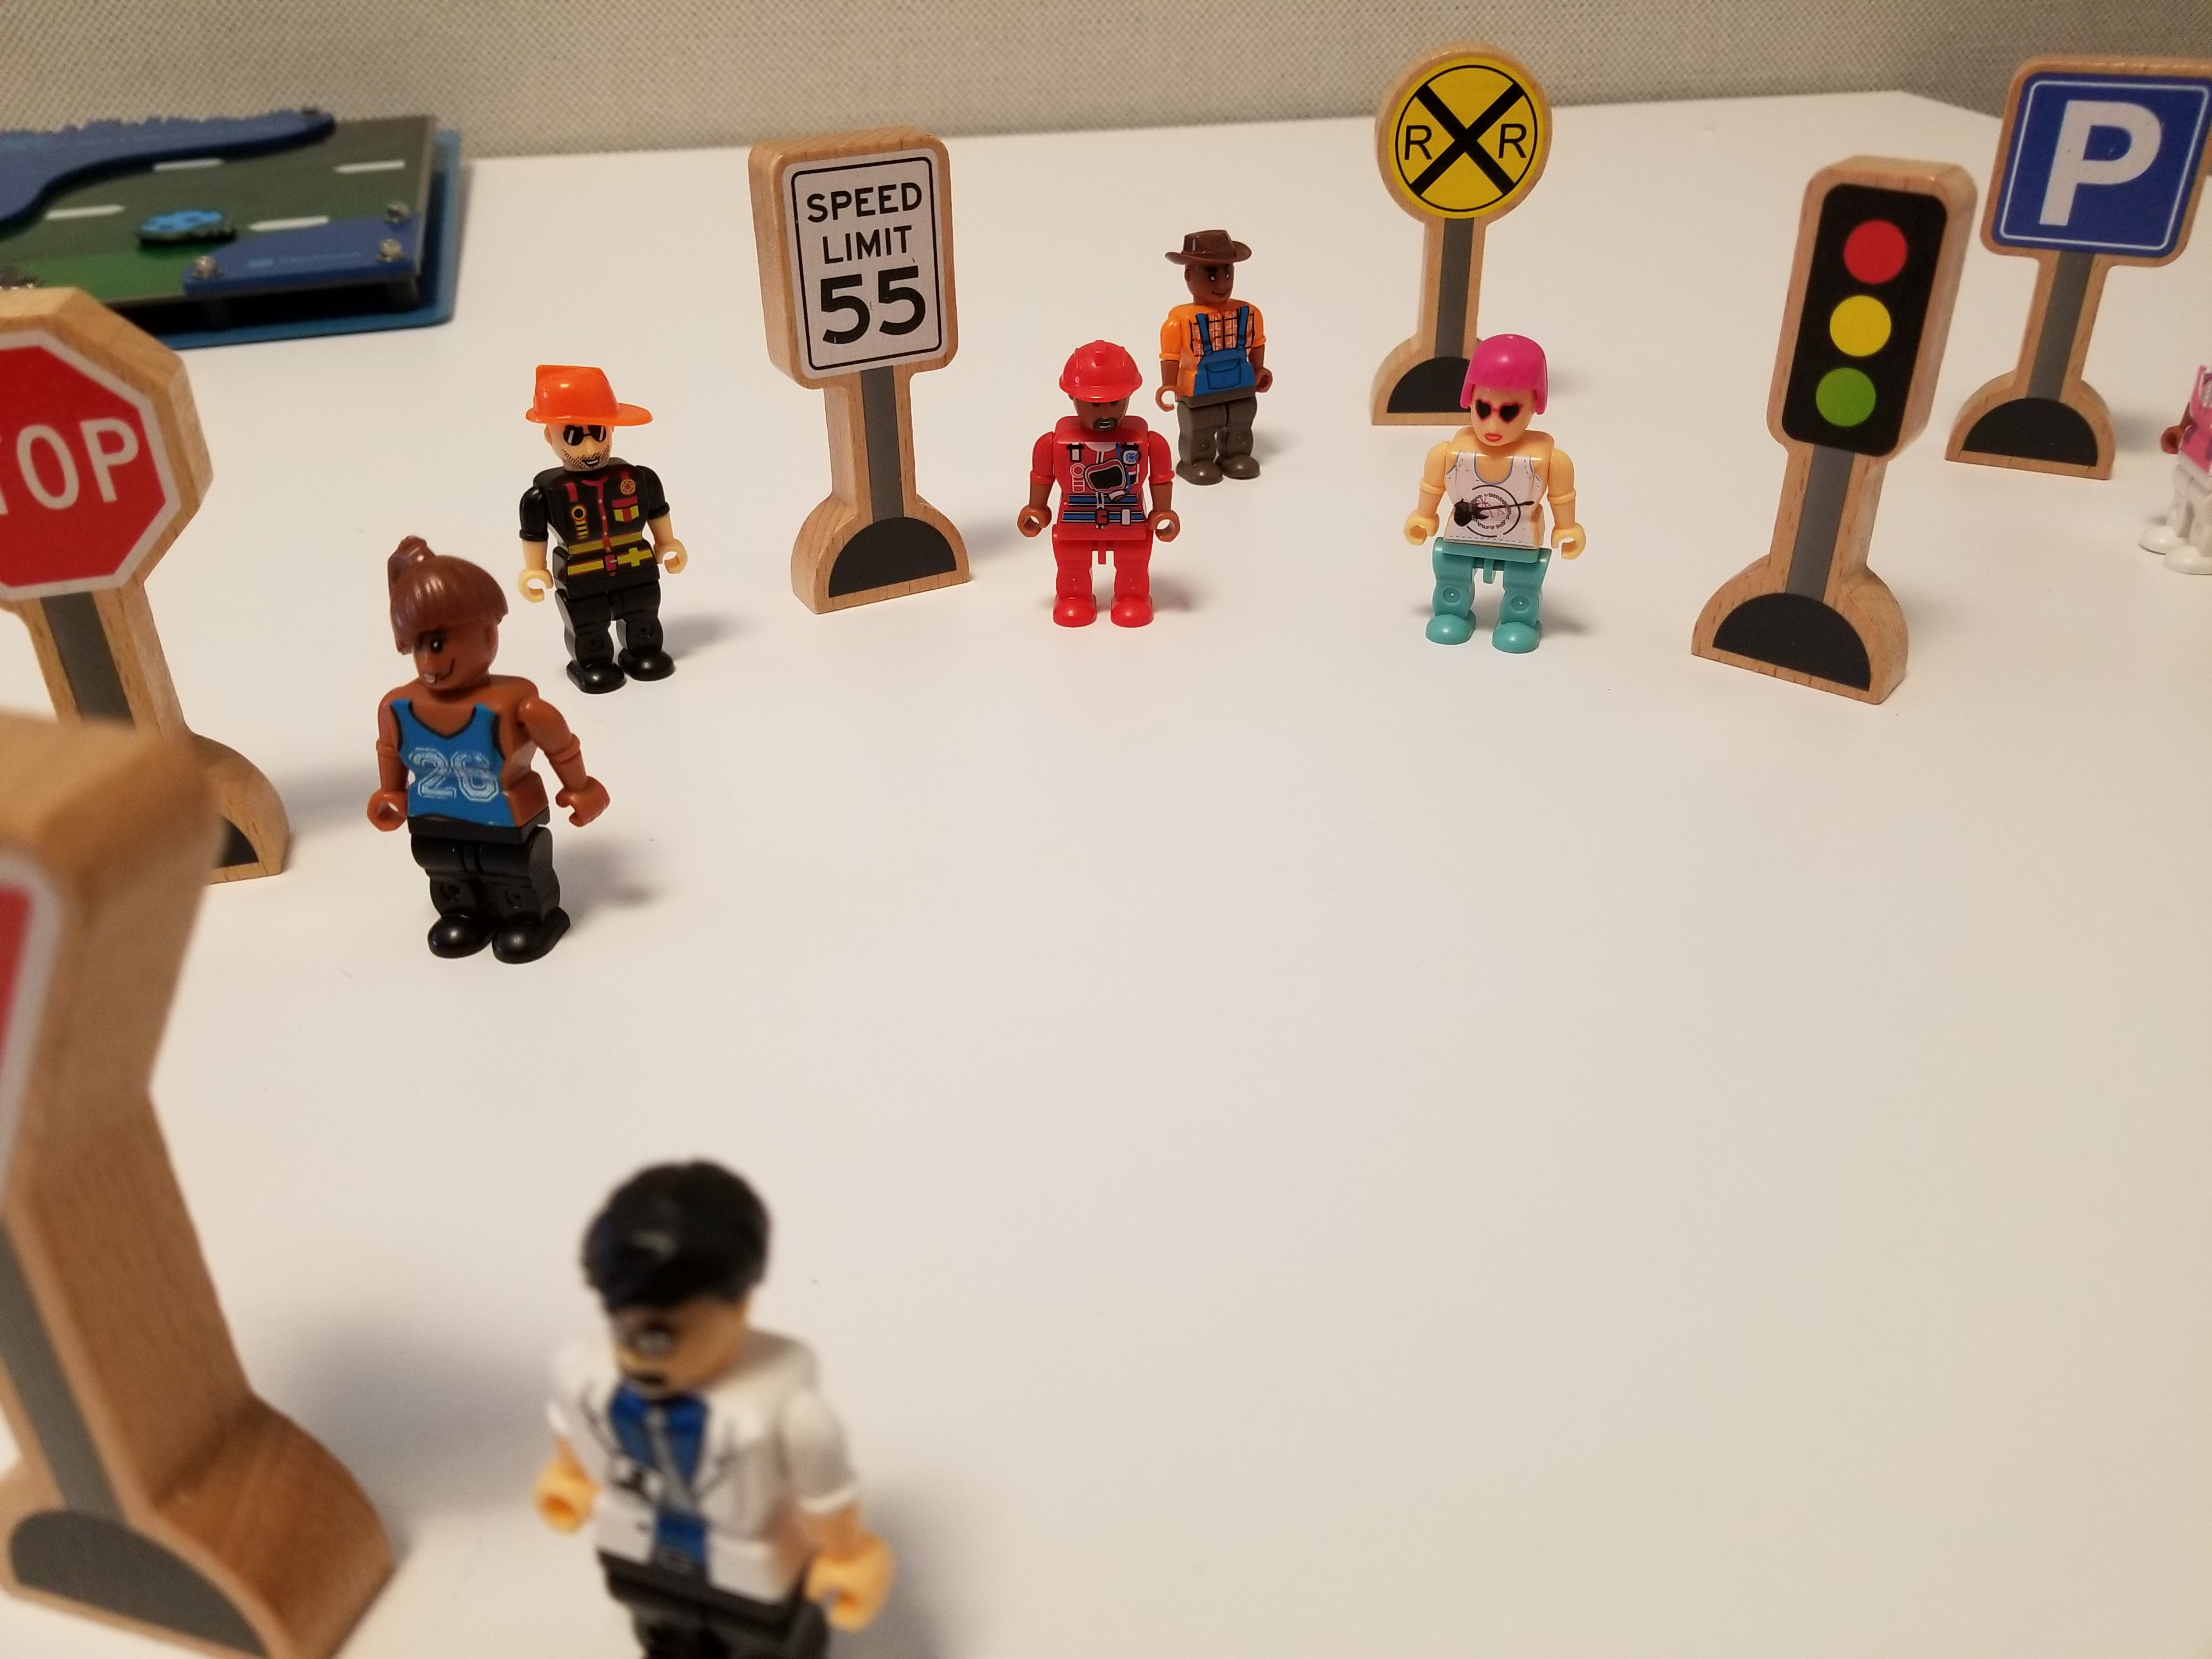Parking: (1991, 41, 2212, 442)
Railroad Crossing: (1353, 21, 1581, 278)
Speed limit 55: (736, 122, 997, 613)
Traffic Light: (1715, 124, 1974, 776)
person: (510, 1127, 888, 1654), (308, 515, 622, 989), (486, 337, 706, 688), (1401, 321, 1583, 668), (1000, 337, 1199, 631), (1158, 214, 1291, 488)
